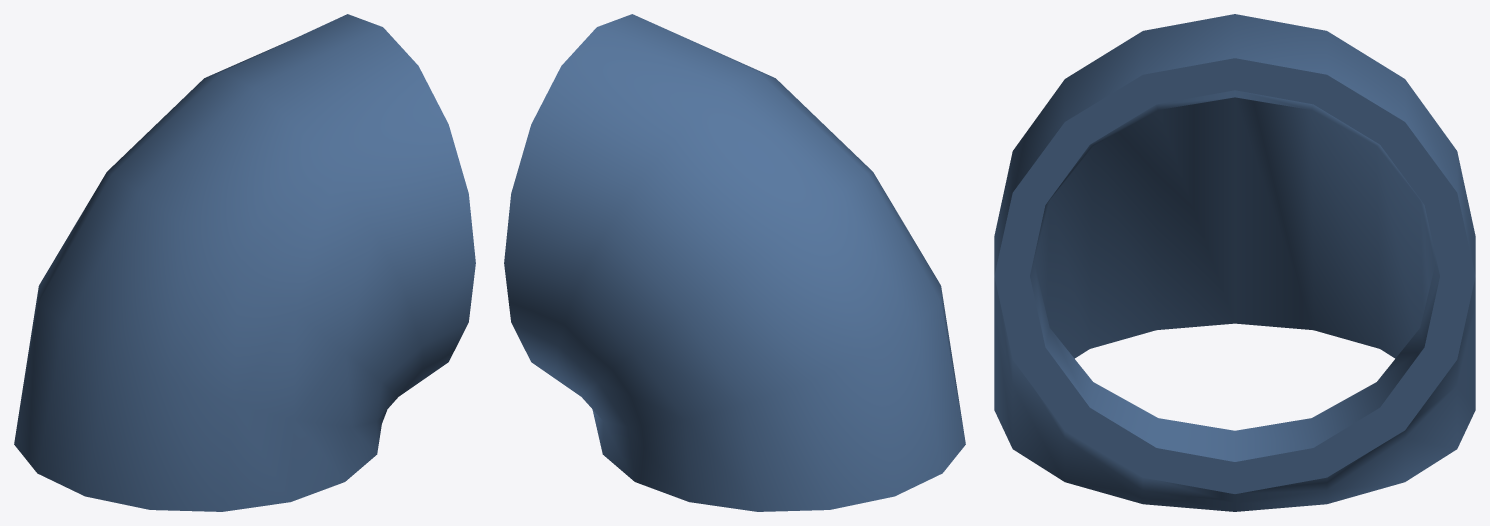
Rendered from Pipe_90.gltf.
3 views of the same model, side by side, from view 1: azimuth 30°, elevation 25°; view 2: azimuth 150°, elevation 25°; view 3: azimuth 270°, elevation 25° (orthographic). The views are drawn at different scales.
Visible parts, largest first — view 1: Pipe_90; view 2: Pipe_90; view 3: Pipe_90.
Boxes of the visible parts, box(x1,y1,x2,y2) form: Pipe_90: box(14, 14, 475, 511); Pipe_90: box(504, 14, 965, 511); Pipe_90: box(994, 14, 1475, 511).
Size of the model in its own units: 1.87 by 1.87 by 1.74.
